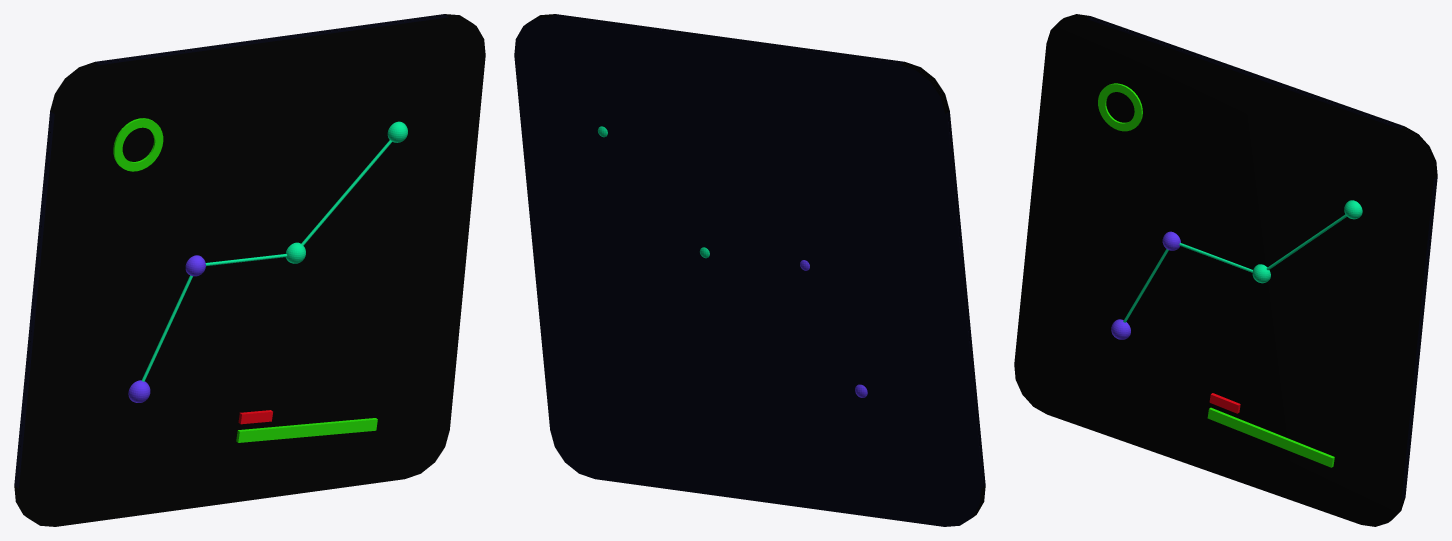
File: chart1.glb
The picture shows the model from 3 angles, left to right: view 1: azimuth 30°, elevation 25°; view 2: azimuth 150°, elevation 25°; view 3: azimuth 330°, elevation 25°; orthographic projection. The views are drawn at different scales.
Visible parts, largest first — view 1: Cube.001; view 2: Cube.001; view 3: Cube.001.
Part boxes in pixels (x1,y1,x2,y2): Cube.001: (14,14,485,526); Cube.001: (514,14,985,526); Cube.001: (1014,14,1437,526).
Size of the model in its own units: 3.86 by 3.86 by 0.1694.
